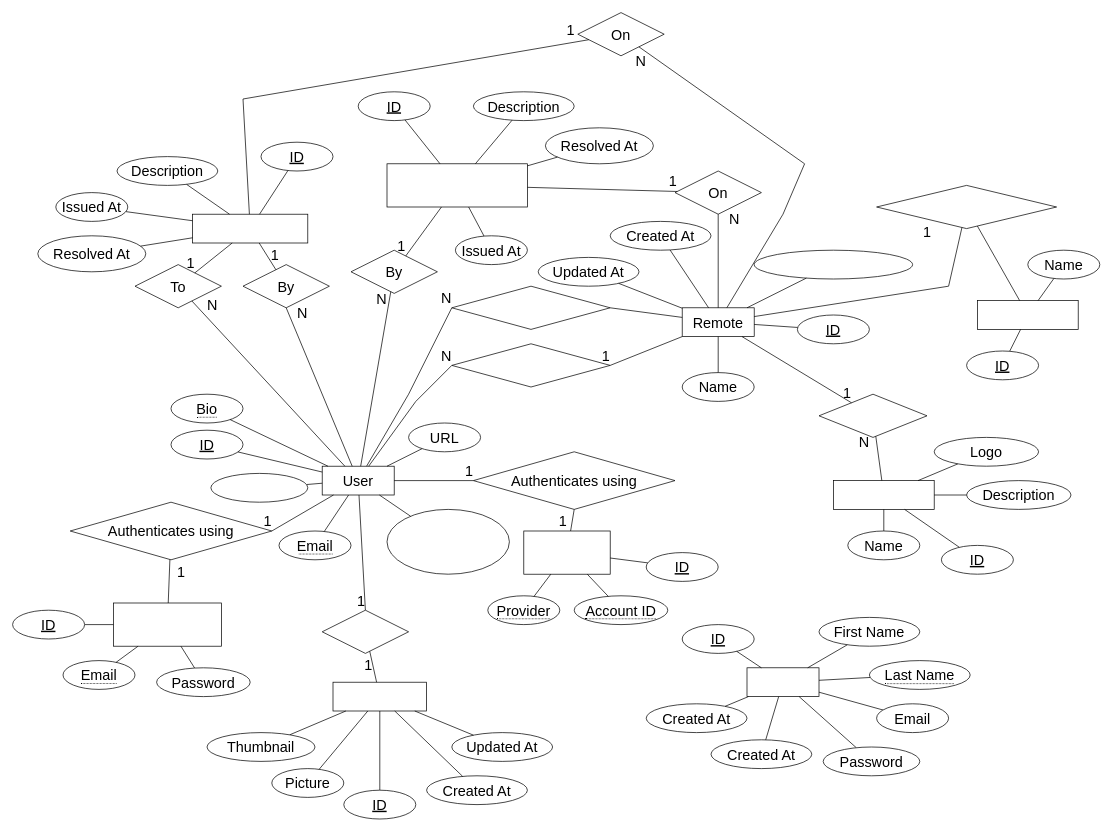
This 1112x832 diagram has some shape labels left out. The shapes that lost their labels are listed below. From the top down, each one's centre as x and y in pixels, then its label:
At [456,185]: "Issues to Customer Care".
At [966,207]: "Manufactured By".
At [250,228]: "Issues to user".
At [833,264]: "DATA (JSON OBJ)".
At [530,307]: "Favourite".
At [1027,314]: "Manufacturer".
At [530,365]: "Contributed by".
At [872,415]: "Category".
At [259,487]: "Full Name".
At [883,494]: "Device".
At [447,541]: "Marketing Mail Flag".
At [566,552]: "User Oauth".
At [167,624]: "User Email Authentication".
At [365,631]: "Has".
At [379,696]: "User Image".
At [782,682]: "Admin".
